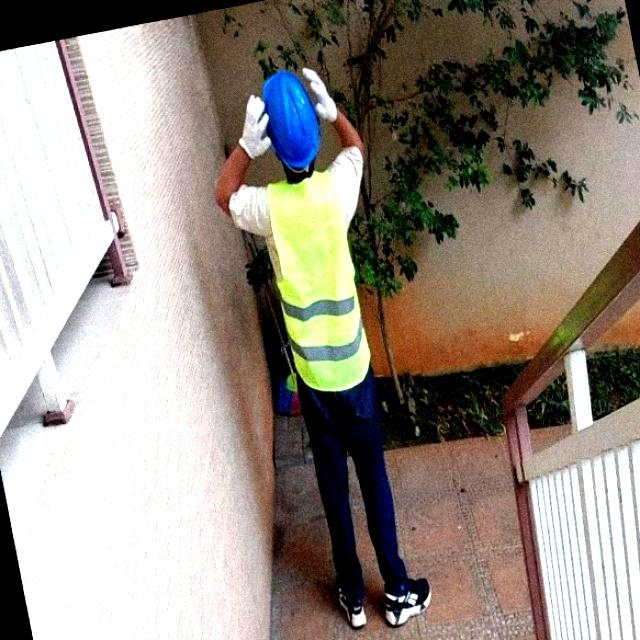helmet: (258, 64, 324, 175)
safety_vest: (256, 166, 374, 402)
